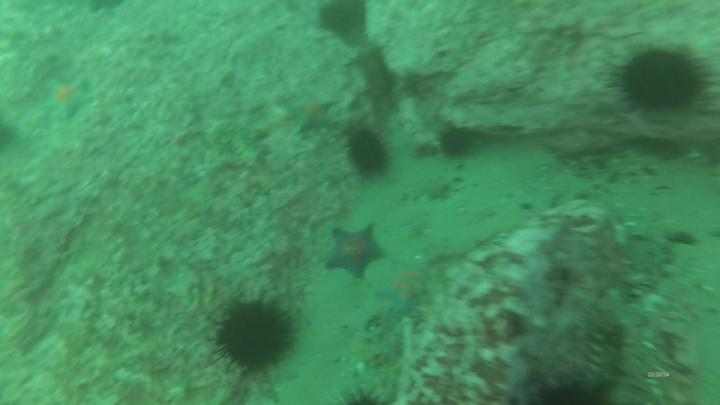echinus: (599, 38, 720, 117), (204, 297, 302, 382), (343, 127, 397, 180), (526, 376, 614, 405), (318, 1, 368, 38), (437, 123, 478, 160), (334, 387, 391, 405)
holothurian: (204, 119, 267, 174), (419, 253, 468, 313), (581, 333, 624, 389)
starfish: (323, 220, 389, 281), (282, 85, 345, 138), (377, 261, 432, 318), (40, 74, 100, 125), (419, 175, 453, 203)
